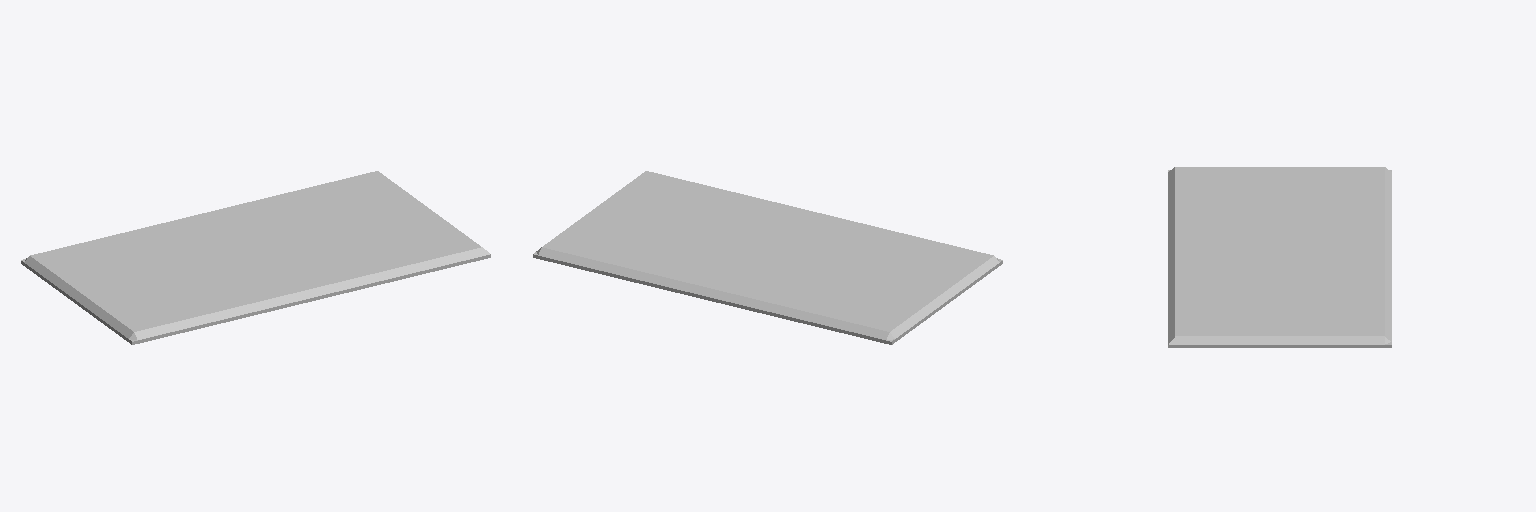
File: table_tableTop_1.obj
3 renders of one model, left to right at view 1: azimuth 30°, elevation 25°; view 2: azimuth 150°, elevation 25°; view 3: azimuth 270°, elevation 25°, orthographic.
Size of the model in its own units: 34.35 by 0.8372 by 18.5.